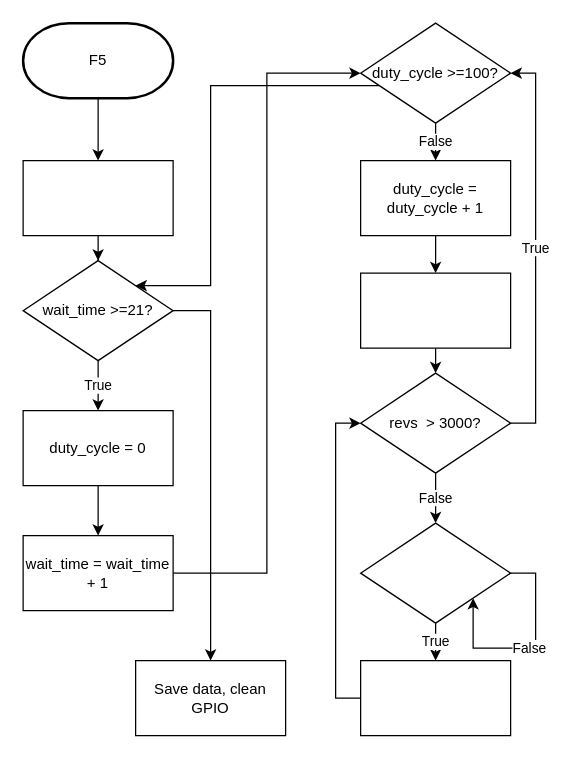
Image size: 570x758. Some labels were removed from this diagram. Each missing label, with the centre of its shape:
"IR HIGH?" goes at pixel 435 572.
"revs = 0" goes at pixel 435 310.
"revs = revs + 1" goes at pixel 435 697.
"wait_time = 0" goes at pixel 97 197.
